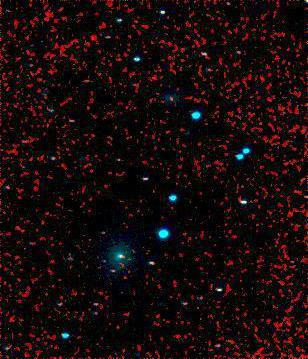star: (105, 238, 135, 268)
